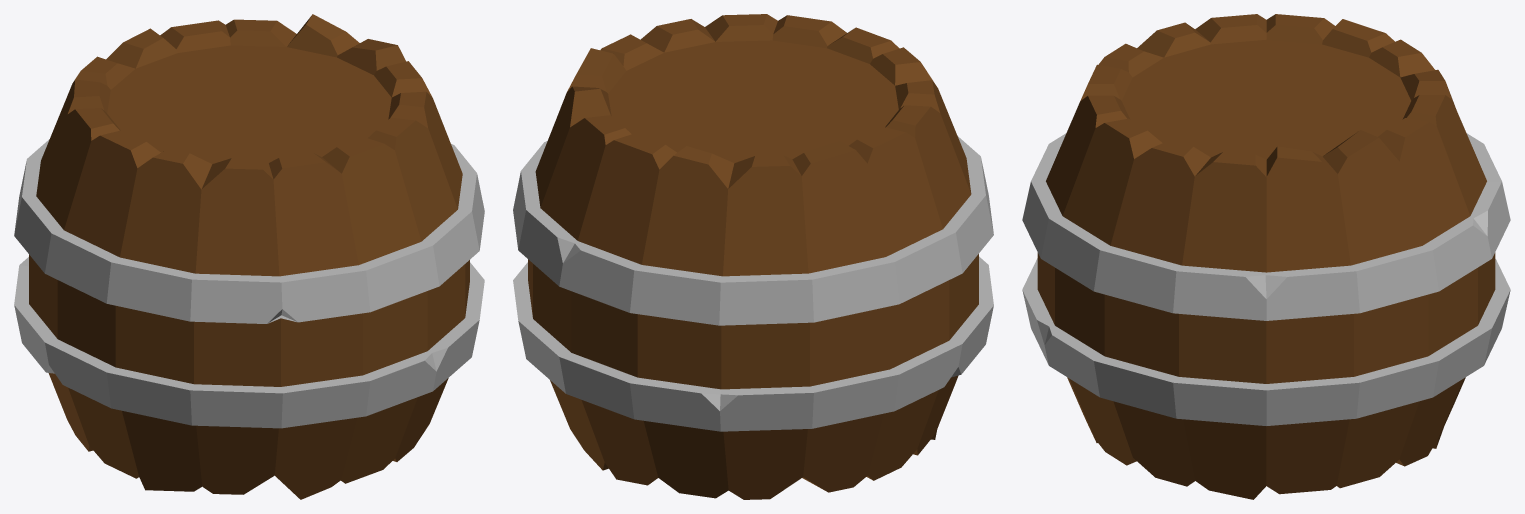
File: LowPolyKeg2.fbx
The picture shows the model from 3 angles, left to right: view 1: azimuth 30°, elevation 25°; view 2: azimuth 150°, elevation 25°; view 3: azimuth 270°, elevation 25°; orthographic projection. The views are drawn at different scales.
Visible parts, largest first — view 1: Cylinder.002; view 2: Cylinder.002; view 3: Cylinder.002.
Boxes of the visible parts, x1,y1,x2,y2 form: Cylinder.002: (14,14,484,499); Cylinder.002: (513,14,993,499); Cylinder.002: (1022,14,1510,499).
Size of the model in its own units: 263 by 212 by 269.
